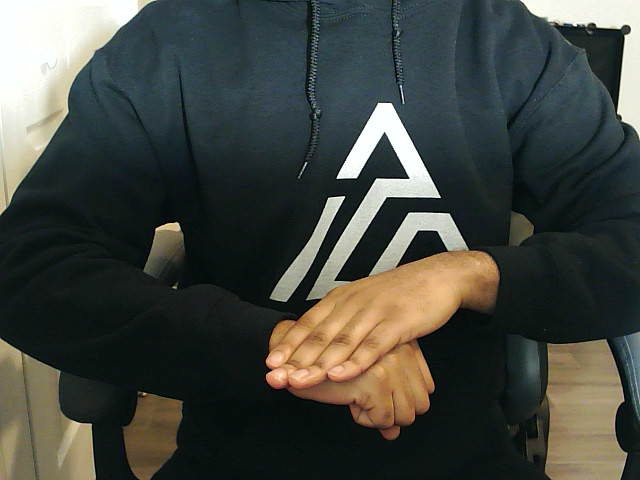Dog: (264, 250, 499, 442)
